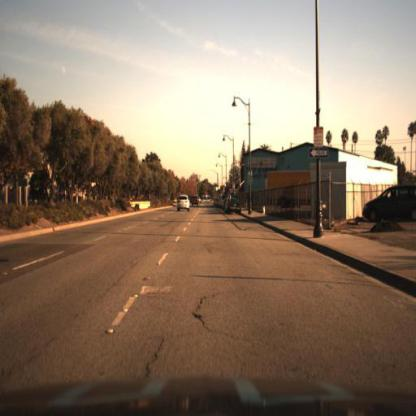car: (364, 184, 416, 223), (175, 195, 191, 221), (227, 192, 244, 215), (190, 192, 204, 210)
truck: (262, 166, 314, 215)
